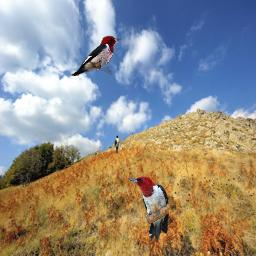Woodpecker: (127, 176, 169, 243), (69, 35, 122, 76)
